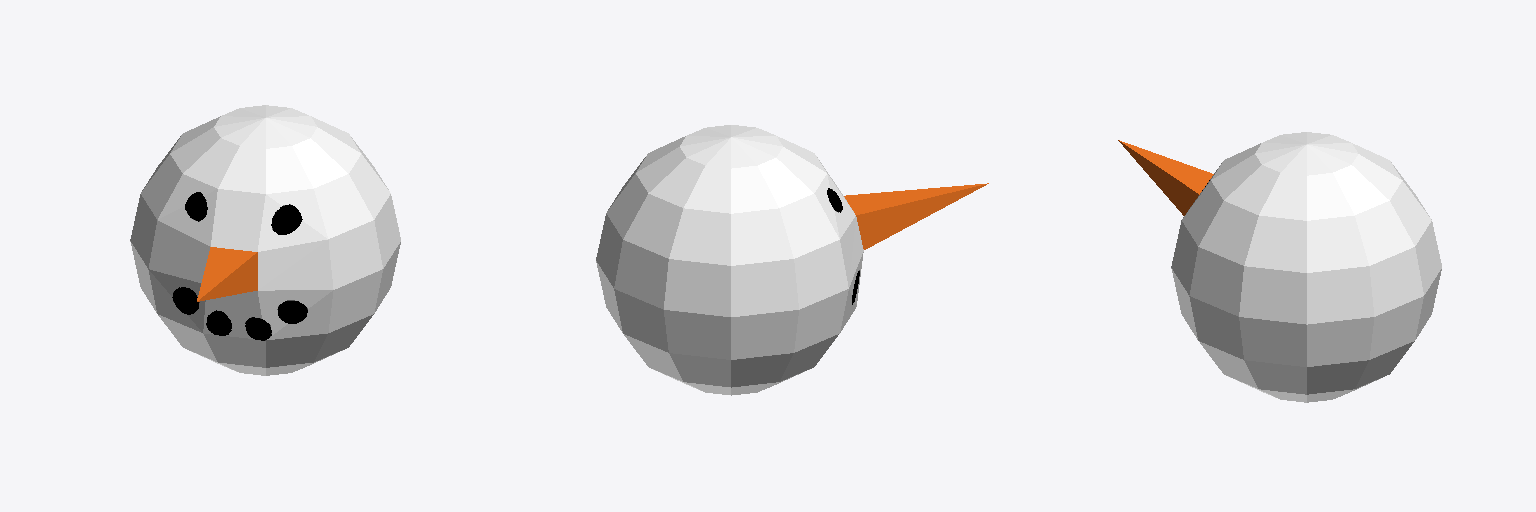
3 views of the same model, side by side, from view 1: azimuth 30°, elevation 25°; view 2: azimuth 150°, elevation 25°; view 3: azimuth 270°, elevation 25° (orthographic).
Visible parts, largest first — view 1: pSphere1; view 2: pSphere1; view 3: pSphere1.
Part boxes in pixels (x1,y1,x2,y2): pSphere1: (130, 105, 400, 375); pSphere1: (596, 125, 988, 395); pSphere1: (1118, 132, 1441, 402).
Size of the model in its own units: 2.39 by 2 by 2.39.
1 materials, 1 textured.